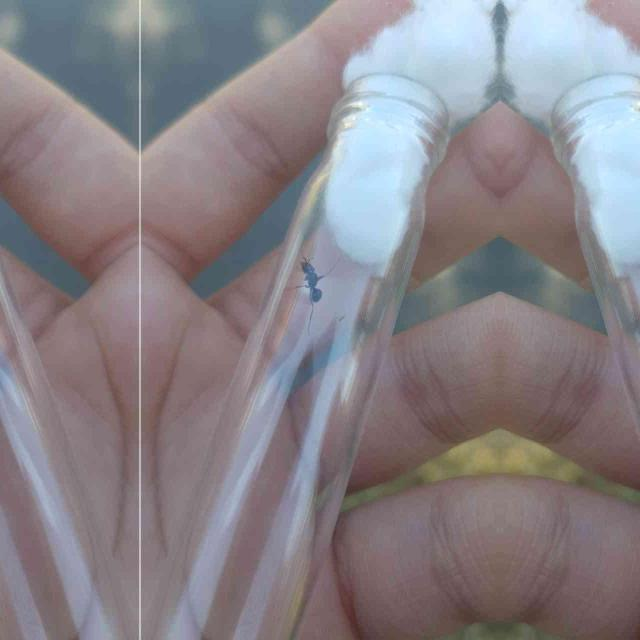Lasius: (280, 252, 326, 302)
